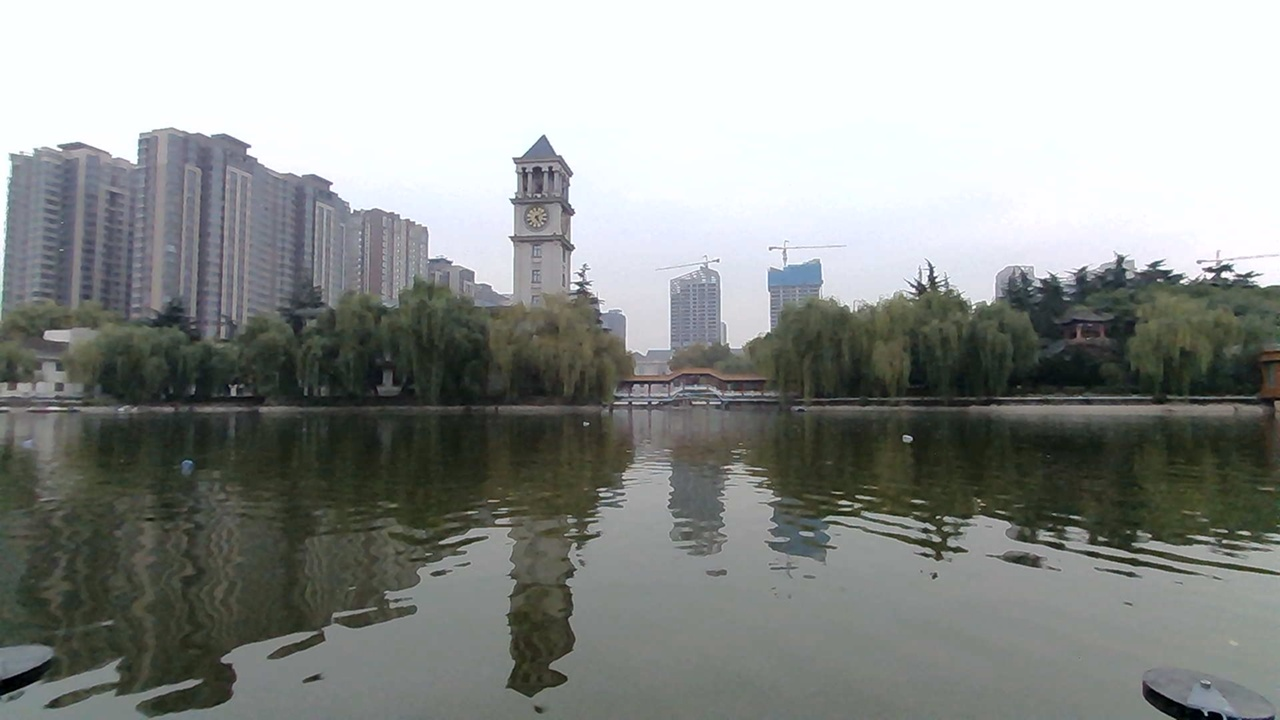bottle: (11, 424, 44, 456), (170, 454, 207, 482), (882, 425, 914, 454)
